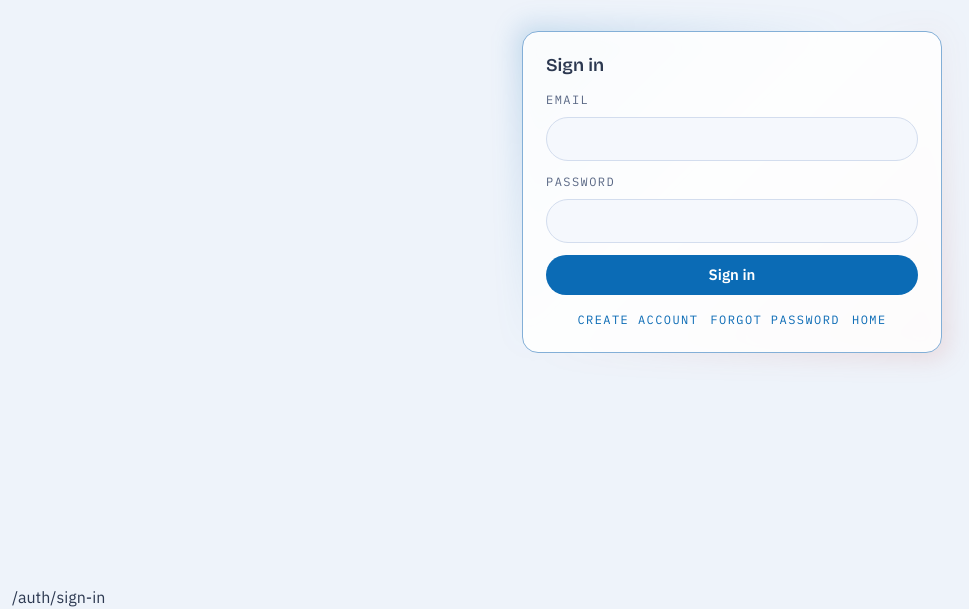
Test: SignInPage › disables submit in flight
The width and height of the screenshot is (969, 609).
Type "a@e.com" into the field labelled "Email" at (732, 139), box [546,117,918,161]
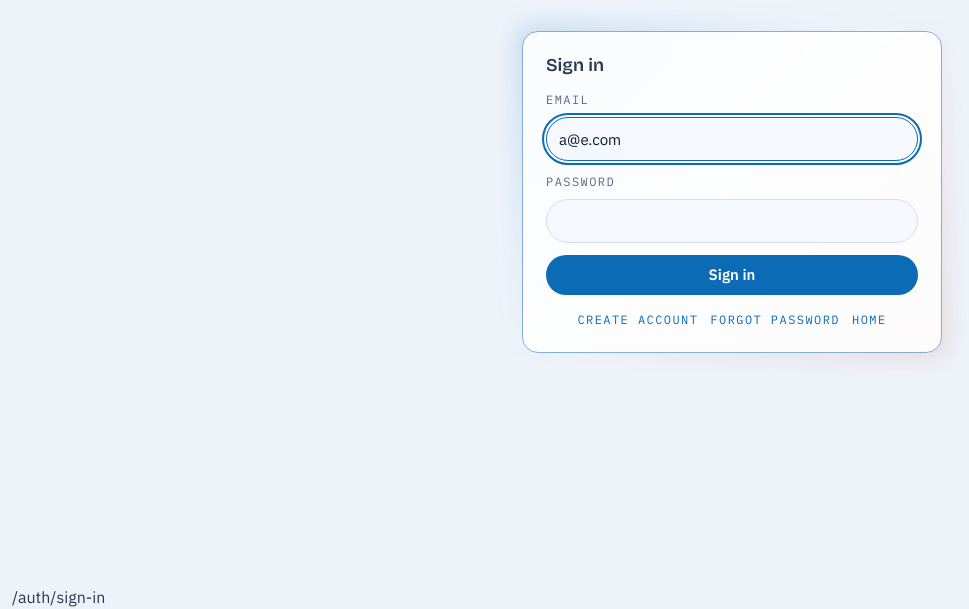
Type "hunter22hunter" into the password field labelled "Password" at (732, 221), box [546,199,918,243]
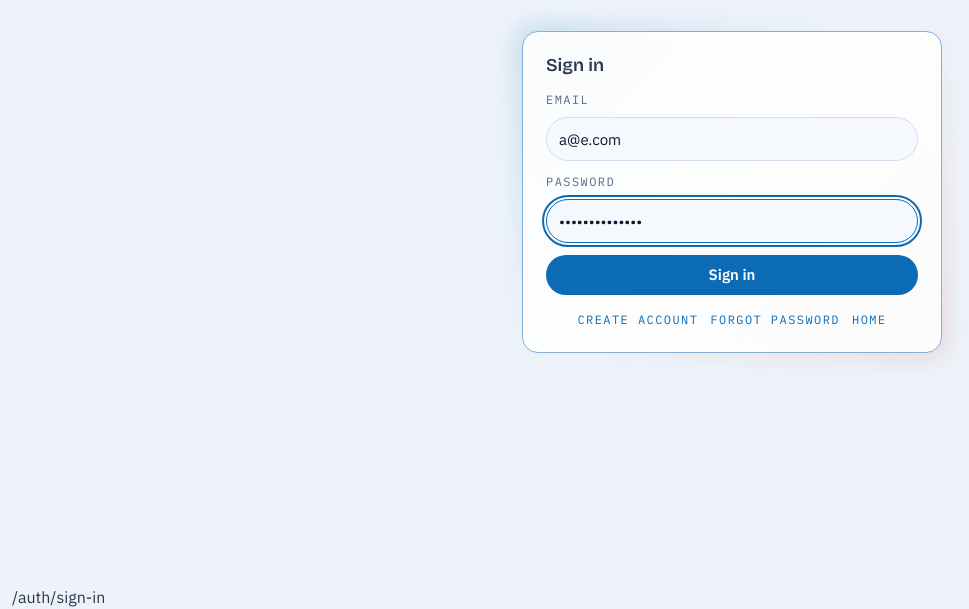
Click the button with test id "auth-submit" at (732, 275), box [546,255,918,295]
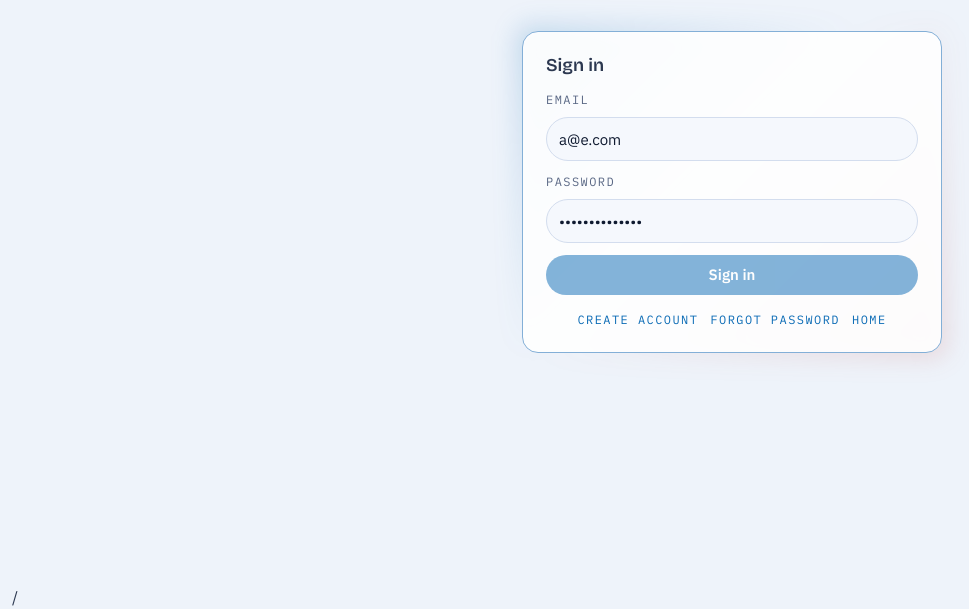
Result: the button with test id "auth-submit" is disabled at [546,255,918,295]
